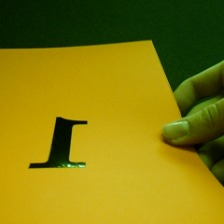orange1: (25, 111, 95, 169)
